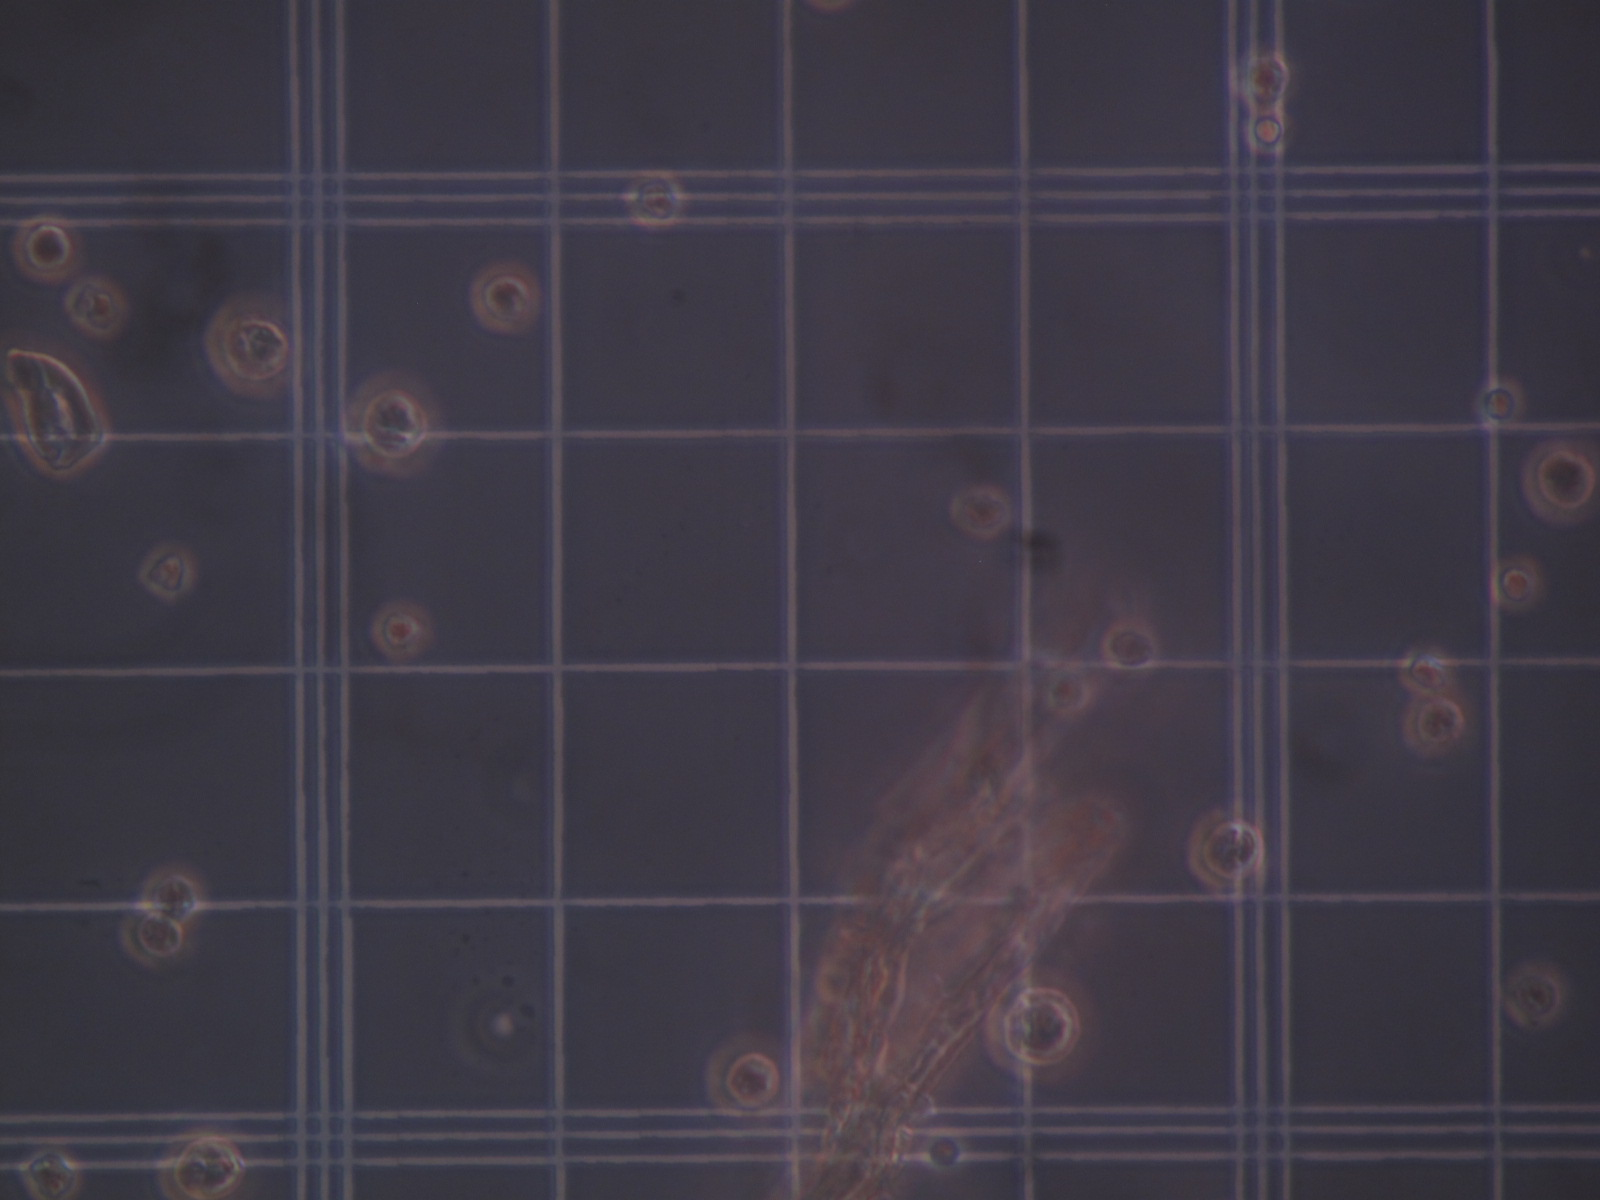hemo: (986, 969, 1094, 1083), (341, 371, 443, 476), (203, 290, 295, 400), (706, 1034, 792, 1123), (1186, 807, 1265, 890), (156, 1129, 246, 1200), (1522, 440, 1596, 524), (472, 261, 540, 338), (13, 213, 78, 284), (1405, 695, 1471, 755), (139, 863, 204, 924), (1502, 967, 1563, 1029), (64, 279, 129, 338), (622, 169, 684, 228), (16, 1145, 82, 1200), (370, 599, 431, 658), (121, 910, 185, 966), (139, 542, 195, 600), (950, 487, 1012, 539), (1100, 623, 1159, 673), (1398, 647, 1454, 698), (1240, 54, 1290, 111), (1492, 557, 1538, 613), (1477, 379, 1528, 426), (921, 1128, 966, 1171), (1245, 113, 1290, 155), (1048, 669, 1094, 710)
